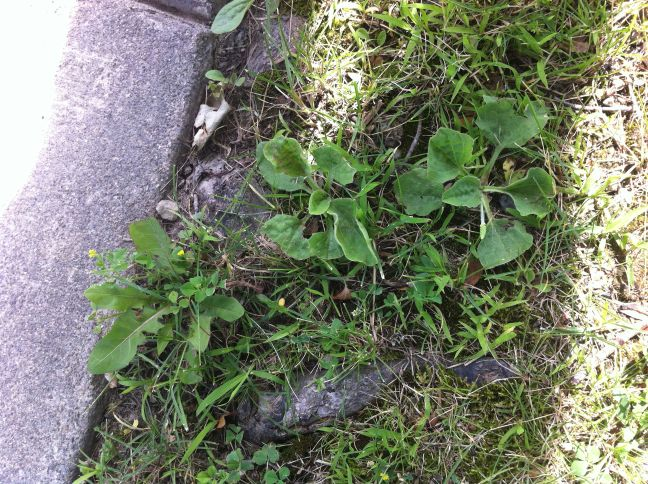weed1: (390, 93, 559, 272), (250, 134, 382, 278)
